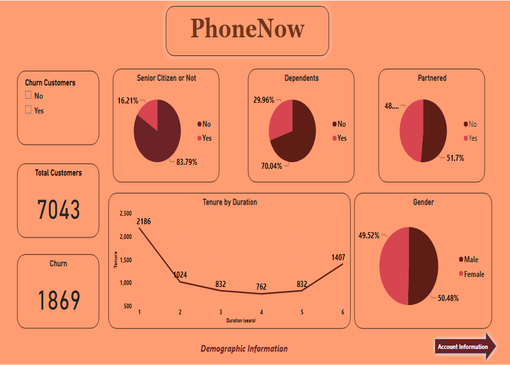

The page's visual inventory and layout, read from the dashboard file:
{"tool":"powerbi","page":{"name":"demographic","canvas":[1280,720],"ordinal":0},"visuals":[{"type":"card","title":"Total Customers","fields":{"Values":["CountNonNull(Table1.customerID)"]},"box":[15.8,322.6,214.6,146.9],"z":0},{"type":"slicer","fields":{"Values":["Table1.Churn"]},"box":[15.8,138.2,214.6,146.9],"z":1000},{"type":"pieChart","title":"Dependents","fields":{"Y":["CountNonNull(Table1.Dependents)"],"Category":["Table1.Dependents"]},"box":[601.9,135.4,316.8,224.6],"z":2000},{"type":"pieChart","title":"Gender","fields":{"Category":["Table1.gender"],"Y":["CountNonNull(Table1.gender)"]},"box":[900,380.2,361.4,269.3],"z":3000},{"type":"pieChart","title":"Partnered","fields":{"Category":["Table1.Partner"],"Y":["CountNonNull(Table1.Partner)"]},"box":[944.6,135.4,316.8,224.6],"z":4000},{"type":"pieChart","title":"Senior Citizen or Not","fields":{"Category":["Table1.Senior_citizen_map"],"Y":["CountNonNull(Table1.SeniorCitizen)"]},"box":[256.3,138.2,316.8,224.6],"z":5000},{"type":"lineChart","title":"Tenure by Duration","fields":{"Y":["CountNonNull(Table1.tenure)"],"Category":["Table1.duration"]},"box":[254.9,380.2,635,269.3],"z":6000},{"type":"shape","box":[1103.6,649.3,176.7,70.7],"z":7000},{"type":"textbox","box":[406.1,10.1,427.7,99.4],"z":8000},{"type":"card","title":"Churn","fields":{"Values":["CountNonNull(Table1.Churn)"]},"box":[15.8,502.6,214.6,146.9],"z":9000},{"type":"textbox","box":[460.8,669.6,299.5,50.4],"z":10000}]}

Visuals, with their boxes on the page's 1280x720 design canvas (x1, y1, x2, y2). These are canvas units, not pixel positions in the 510x365 screenshot, which may show the page scaled, cropped or inside an application window:
"Total Customers" card: crop(16, 323, 230, 470)
slicer - Table1.Churn: crop(16, 138, 230, 285)
"Dependents" pieChart: crop(602, 135, 919, 360)
"Gender" pieChart: crop(900, 380, 1261, 650)
"Partnered" pieChart: crop(945, 135, 1261, 360)
"Senior Citizen or Not" pieChart: crop(256, 138, 573, 363)
"Tenure by Duration" lineChart: crop(255, 380, 890, 650)
shape: crop(1104, 649, 1280, 720)
textbox: crop(406, 10, 834, 110)
"Churn" card: crop(16, 503, 230, 650)
textbox: crop(461, 670, 760, 720)
